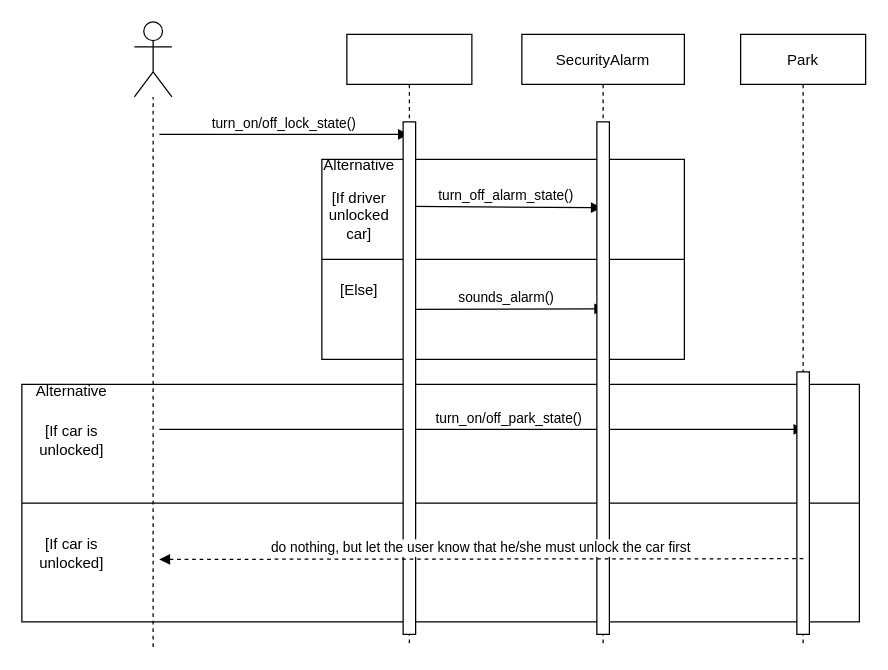
Image size: 888x670. Some labels were removed from this diagram. The box of each missing label's shape, as (x1, y1, x2, y2) in pixels:
Driver: (133, 21, 172, 97)
Lock: (346, 33, 472, 647)
